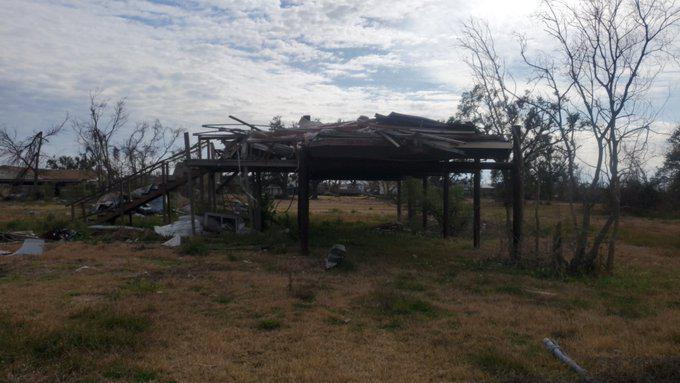destroyed: (47, 79, 584, 280)
